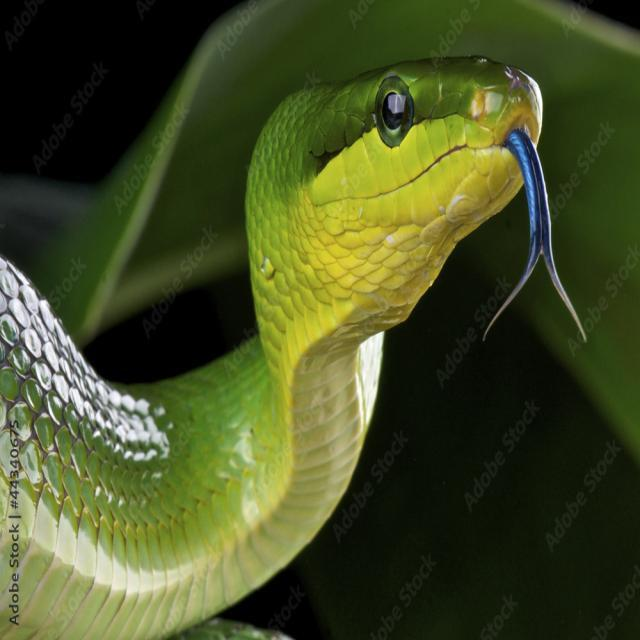Snake: (36, 29, 598, 640)
